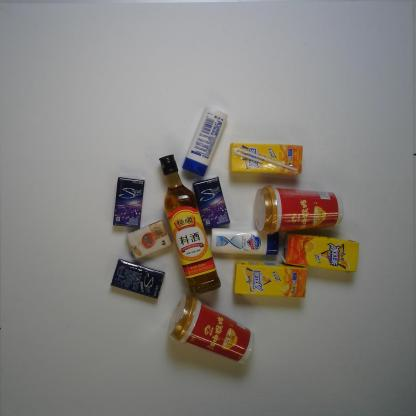Drink: (279, 231, 362, 274), (228, 258, 310, 300), (227, 140, 306, 181)
Gum: (107, 256, 167, 300), (190, 175, 233, 232), (109, 174, 147, 231)
Instant Drink: (164, 292, 257, 369), (250, 184, 346, 236)
Personal Hygiene: (179, 104, 230, 178), (208, 225, 282, 259)
Seasoner: (157, 151, 223, 298)
Tissue: (124, 218, 174, 262)
